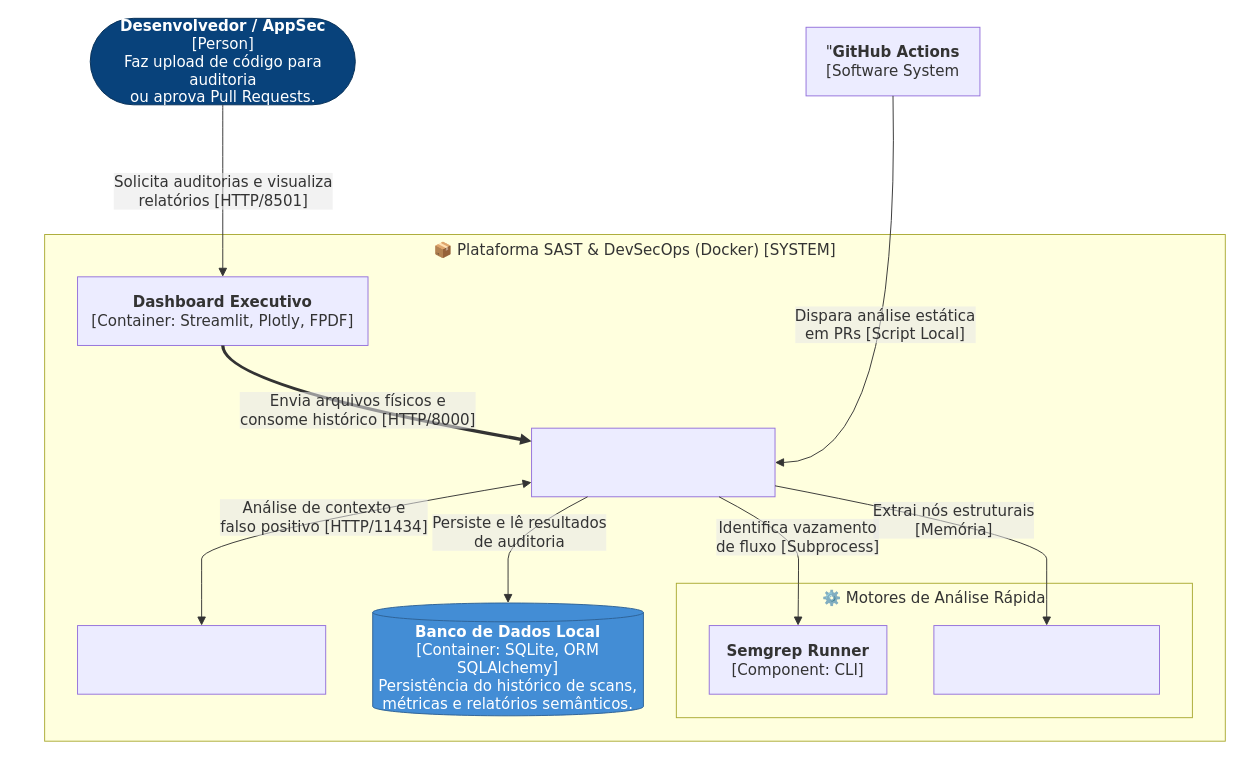
Image size: 1242x758. Some labels were removed from this diagram. Each missing label, with the centre of its shape:
"API Síncrona [Container: FastAPI, Python]" belongs at (653,462).
"Motor AST [Component: Módulo 'ast']" belongs at (1046,659).
"Motor Semântico (IA) [Container: Ollama, Llama 3]" belongs at (201,659).
